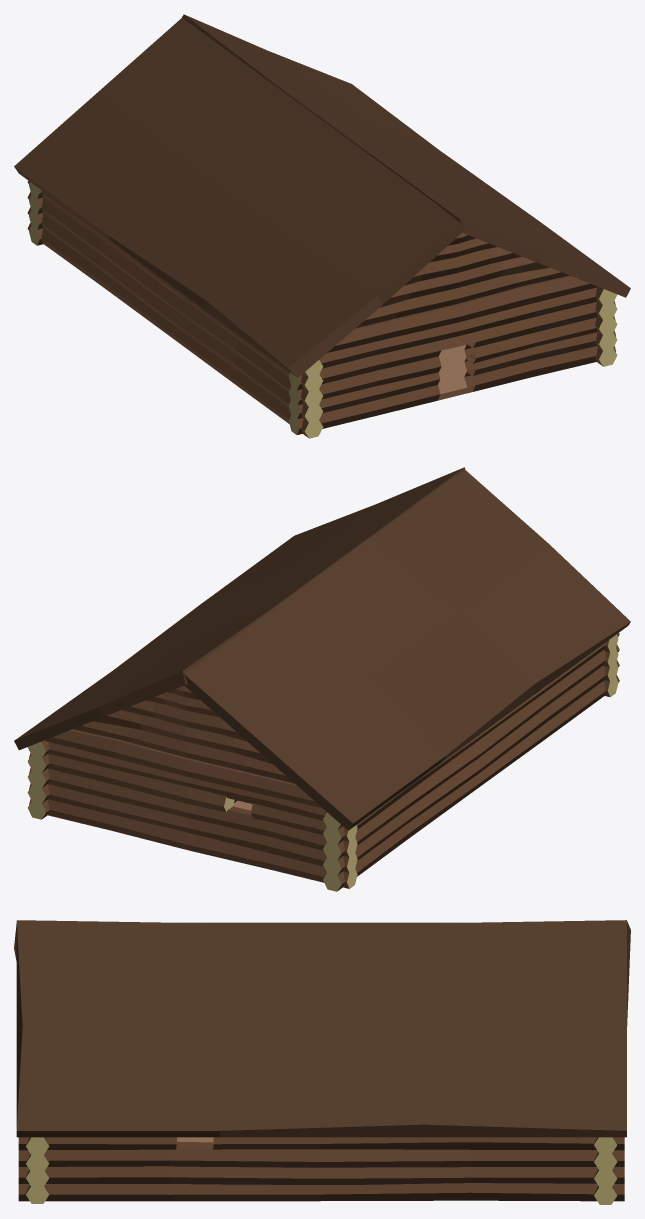
Rendered from dathrel_cabin.glb.
3 views of the same model, one above another, from view 1: azimuth 30°, elevation 25°; view 2: azimuth 150°, elevation 25°; view 3: azimuth 270°, elevation 25° (orthographic). The views are drawn at different scales.
Visible parts, largest first — view 1: Plane.003; view 2: Plane.003; view 3: Plane.003.
Part boxes in pixels (x1,y1,x2,y2): Plane.003: (14,14,630,438); Plane.003: (14,467,630,891); Plane.003: (14,920,630,1204).
Size of the model in its own units: 15.52 by 8.03 by 22.37.
